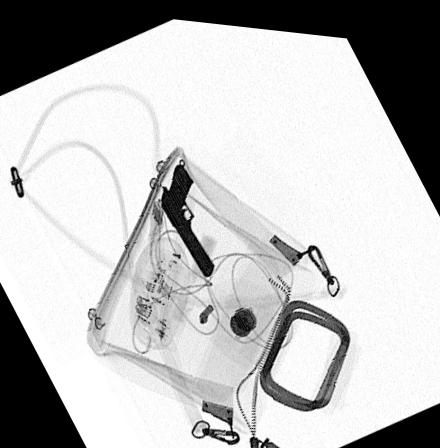Gun: (158, 157, 215, 272)
